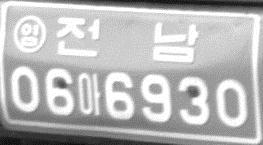0: (214, 77, 248, 129), (9, 64, 39, 114)
3: (176, 76, 210, 126)
6: (44, 67, 75, 117), (104, 71, 134, 120)
9: (139, 73, 172, 123)
아: (76, 72, 102, 115)
영: (12, 15, 47, 54)
전남_D: (56, 15, 199, 64)
